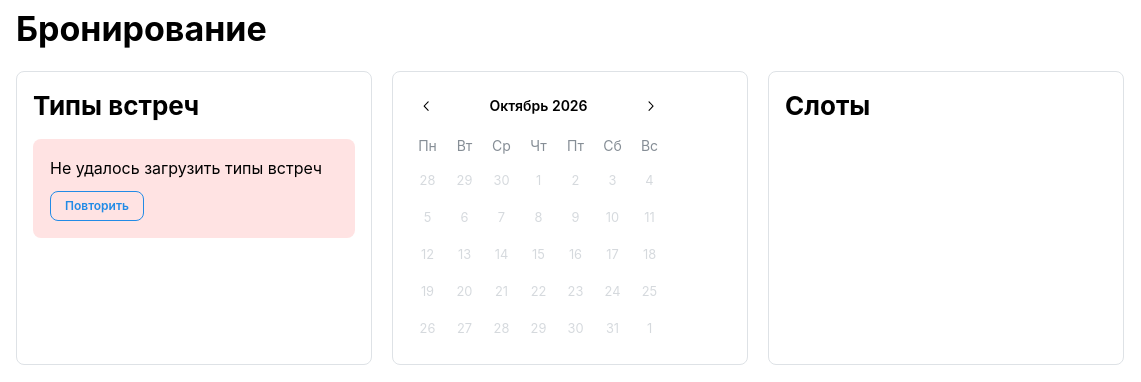
Test: booking page › recovers from a types loading error with the retry button
This screenshot has width=1141, height=382.
Expected: the text "Не удалось загрузить типы встреч" is shown, [50, 156, 322, 181]
Click the button "Повторить".
click(97, 206)  # box [50, 191, 144, 221]
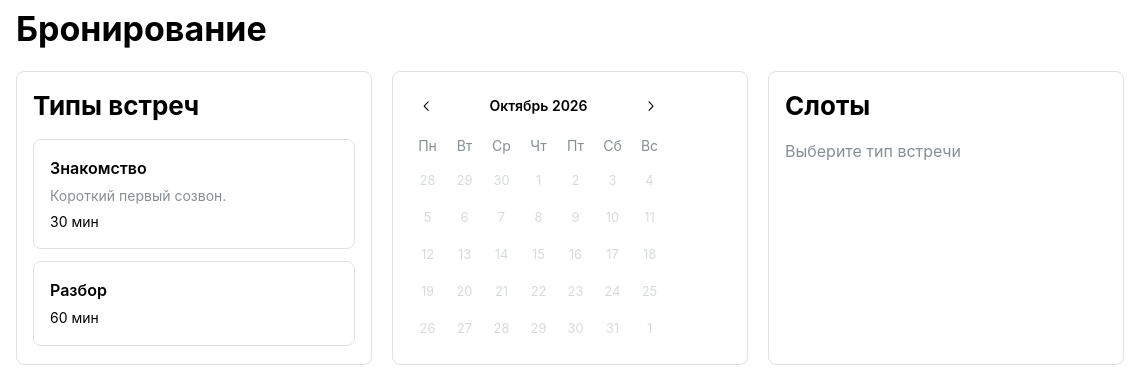
Expected: the button "Знакомство Короткий первый созвон. 30 мин" is shown, [33, 139, 355, 250]
